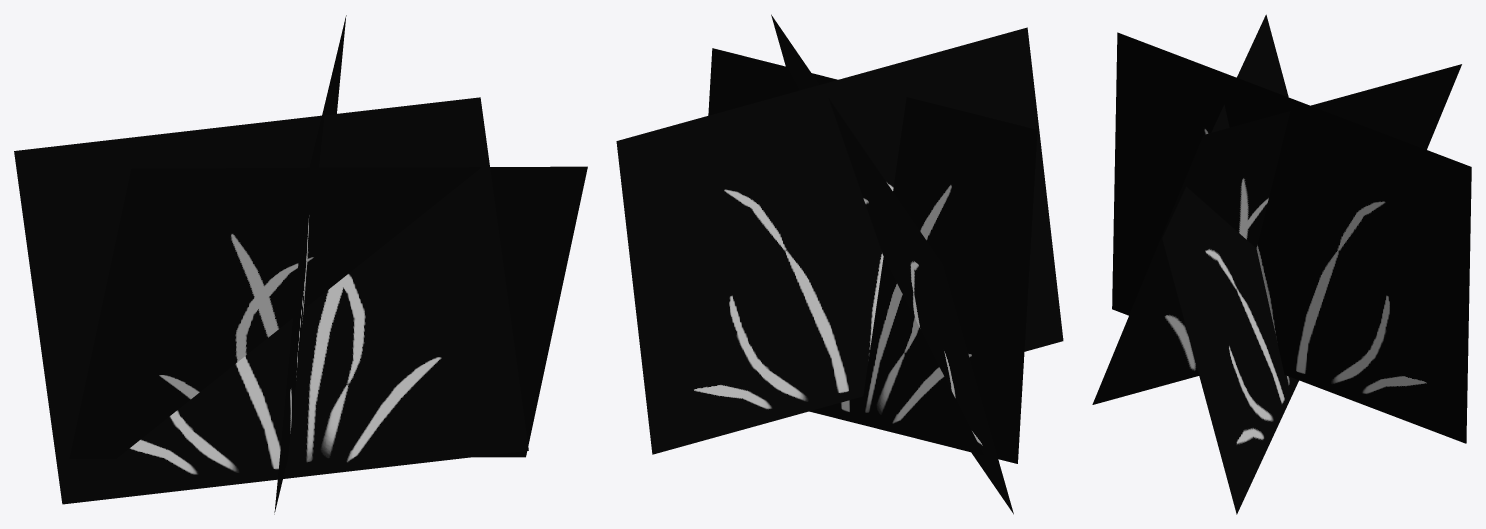
File: grass01.fbx
3 views of the same model, side by side, from view 1: azimuth 30°, elevation 25°; view 2: azimuth 150°, elevation 25°; view 3: azimuth 270°, elevation 25° (orthographic). The views are drawn at different scales.
Parts seen in each view (by area): view 1: Plane477; view 2: Plane477; view 3: Plane477.
Part boxes in pixels (x1,y1,x2,y2): Plane477: (14, 15, 587, 514); Plane477: (616, 14, 1063, 514); Plane477: (1092, 14, 1471, 514).
Bounding box in the file's own units: 115 × 103 × 99.24.
